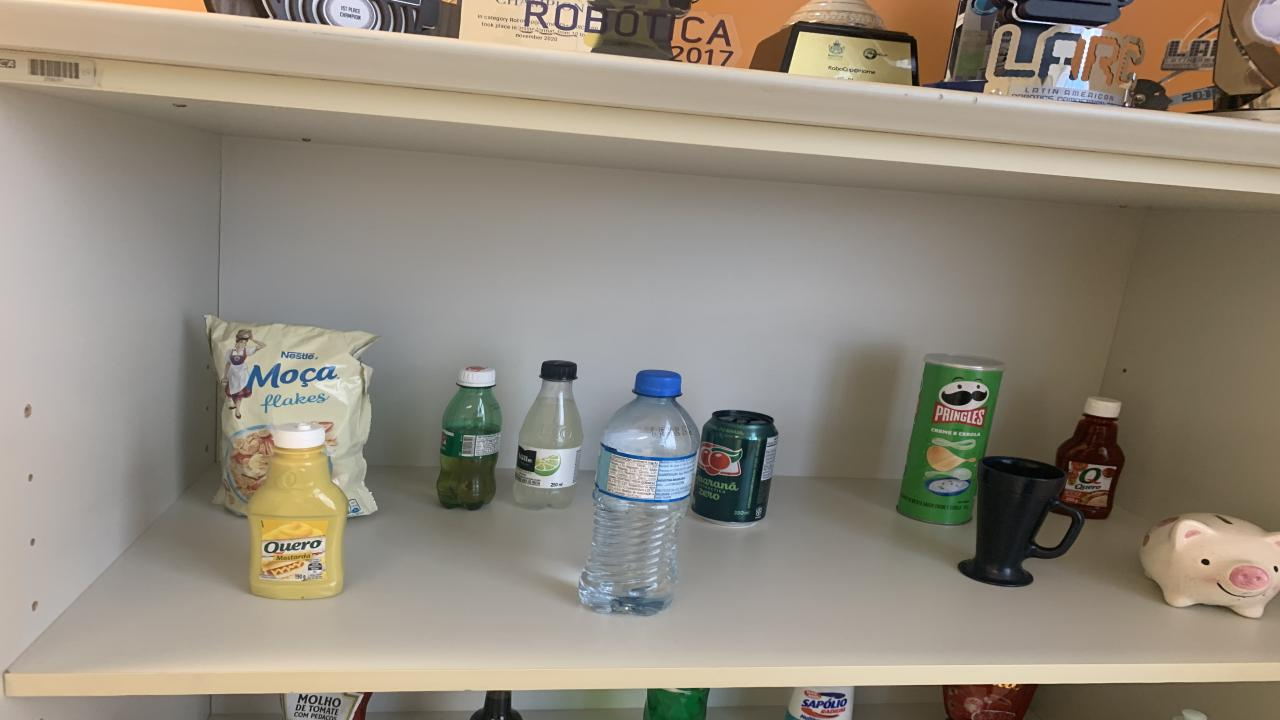Cleaner-Cleanup_Items: (785, 686, 855, 720)
Detergent-Cleanup_Items: (642, 688, 710, 720)
English_Sauce-Pantry_Items: (470, 690, 522, 720)
Flakes-Snacks: (205, 315, 378, 516)
Guarana-Drinks: (438, 368, 502, 510)
Guarana_Can-Drinks: (690, 411, 778, 527)
Ketchup-Pantry_Items: (1055, 398, 1125, 519)
Mustard-Pantry_Items: (248, 422, 348, 598)
Pig_Safe-Miscellaneous: (1140, 514, 1280, 617)
Pringles-Snacks: (898, 354, 1005, 525)
Soda-Drinks: (512, 360, 582, 510)
Tomato_Sauce-Pantry_Items: (942, 684, 1038, 720), (282, 692, 372, 720)
Water_Bottle-Drinks: (580, 369, 700, 615)
